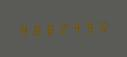eight: (30, 21, 42, 38), (43, 21, 55, 37)
four: (69, 19, 81, 36)
nine: (17, 22, 29, 38), (82, 19, 94, 35)
two: (56, 20, 68, 36)
zero: (95, 18, 107, 34)
